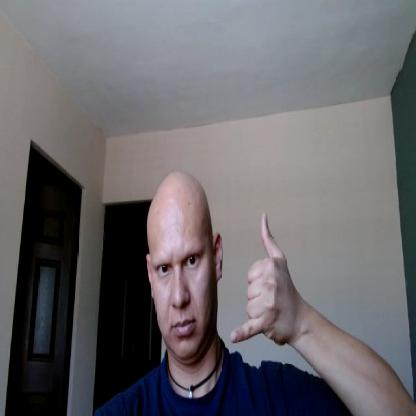Y: (232, 207, 294, 347)
